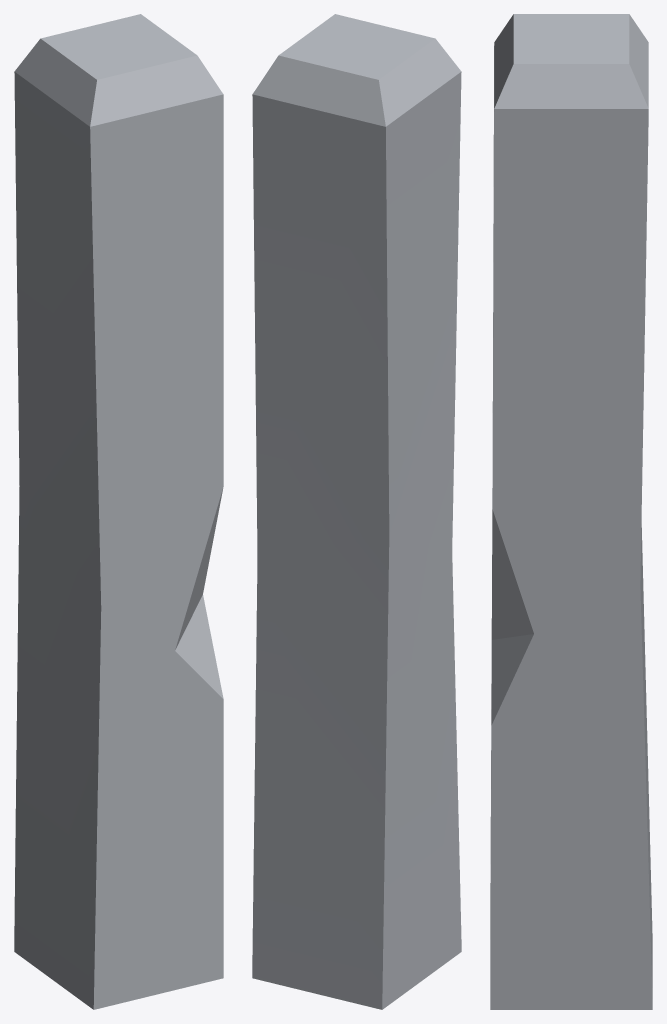
The model's file is SM_Prop_Xmas_Picket_Fence_Post_01.obj.
3 renders of one model, left to right at view 1: azimuth 30°, elevation 25°; view 2: azimuth 150°, elevation 25°; view 3: azimuth 270°, elevation 25°, orthographic. The views are drawn at different scales.
Visible parts, largest first — view 1: SM_Prop_Xmas_Picket_Fence_Post_01_0; view 2: SM_Prop_Xmas_Picket_Fence_Post_01_0; view 3: SM_Prop_Xmas_Picket_Fence_Post_01_0.
Boxes of the visible parts, <box> form: SM_Prop_Xmas_Picket_Fence_Post_01_0: <box>14,14,223,1009</box>; SM_Prop_Xmas_Picket_Fence_Post_01_0: <box>252,14,461,1009</box>; SM_Prop_Xmas_Picket_Fence_Post_01_0: <box>490,14,652,1009</box>.
Bounding box in the file's own units: 0.1031 × 0.6777 × 0.1064.
1 material, 1 textured.
